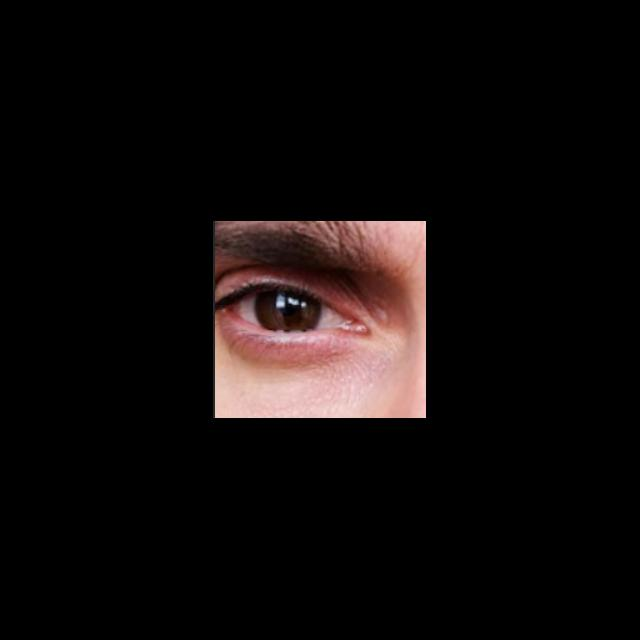eye: (233, 288, 344, 332)
iris: (257, 290, 320, 330)
